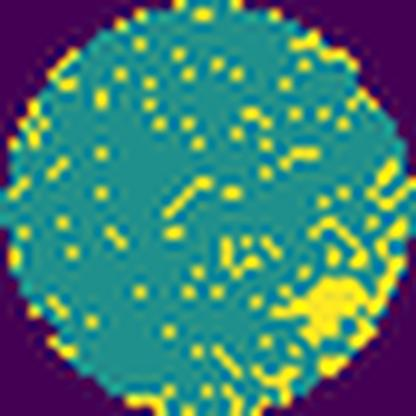Loc: (273, 259, 404, 352)
